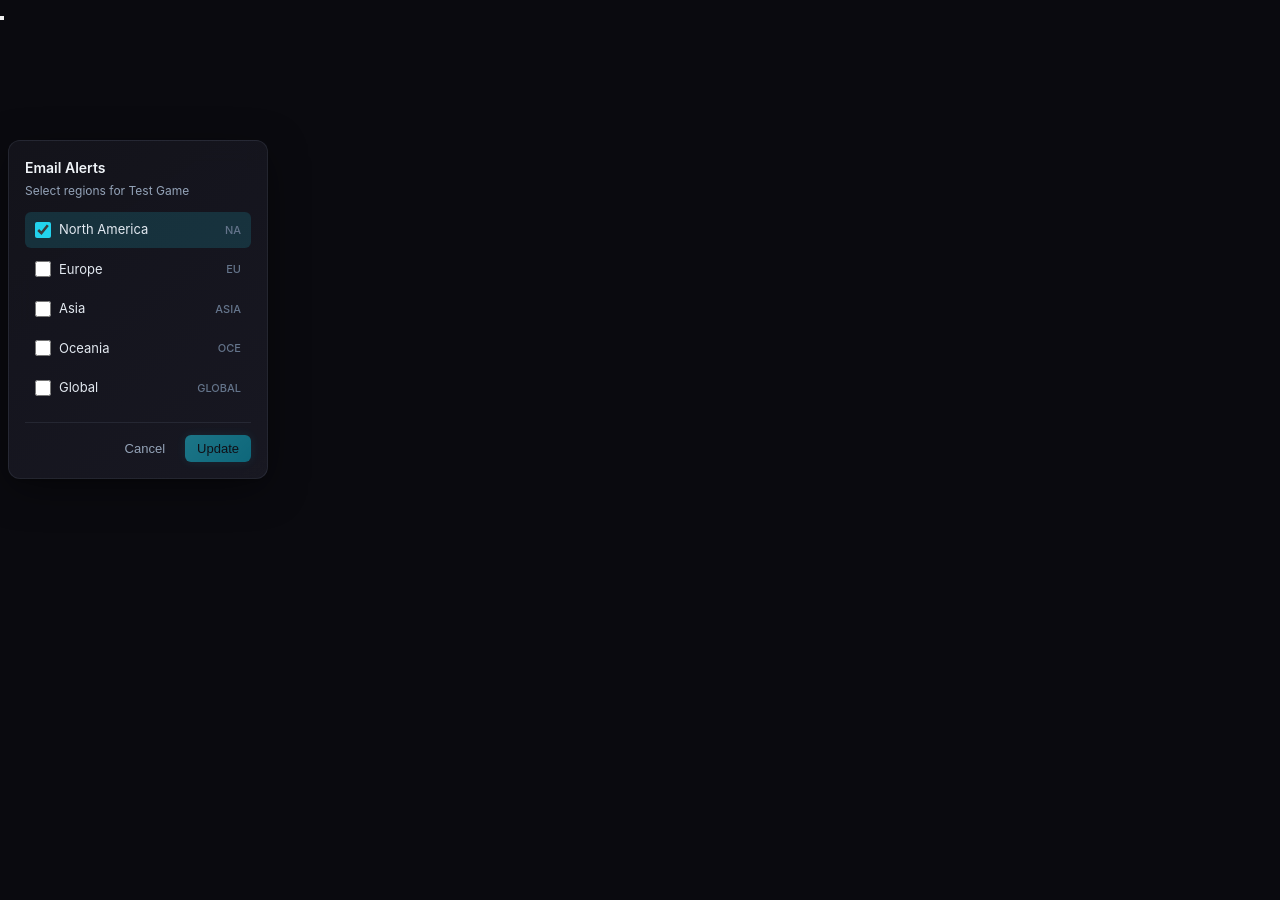
Test case: RegionSelectionPopover Component › should display Update button when editing existing subscription
The image size is (1280, 900).
# Select EU to enable Update button
Click the checkbox labelled "Europe EU": (43, 269) [35, 261, 51, 277]
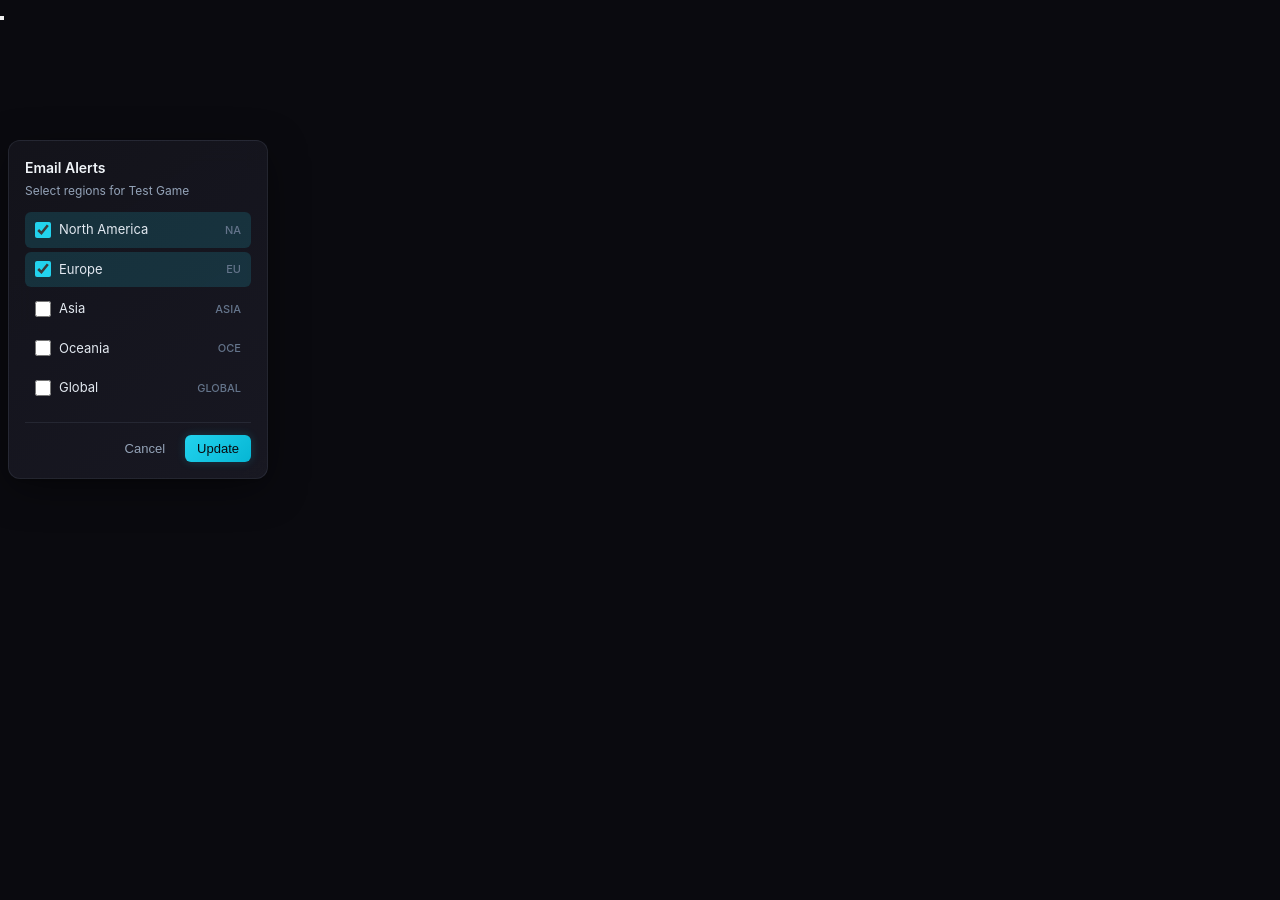
Result: the button "Update" is enabled at [185, 434, 251, 462]
